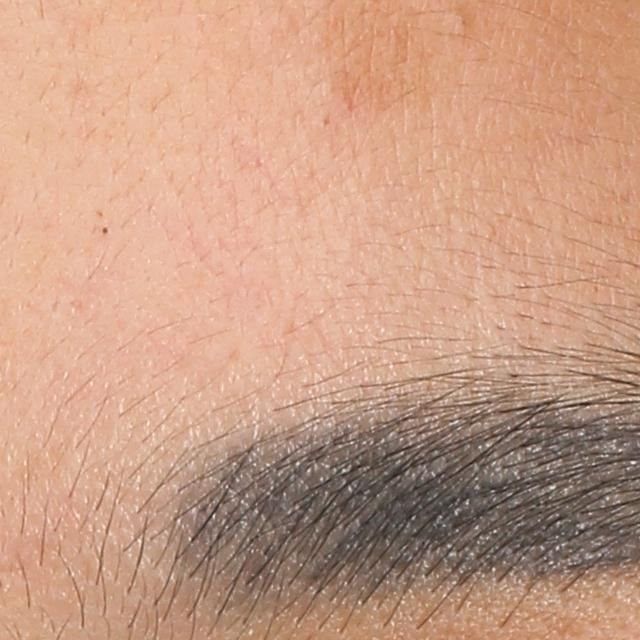comedo: (443, 6, 472, 39), (99, 223, 114, 239)
